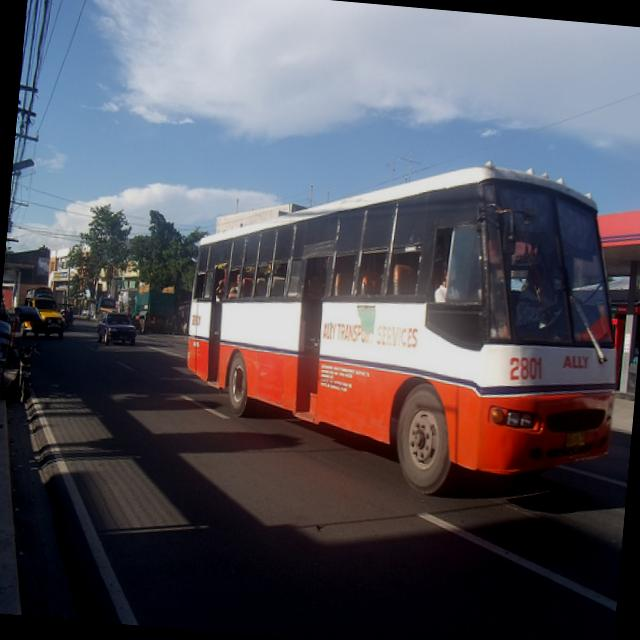Vehicle: (167, 146, 640, 521), (18, 284, 68, 342), (6, 338, 43, 406), (94, 310, 138, 346)
